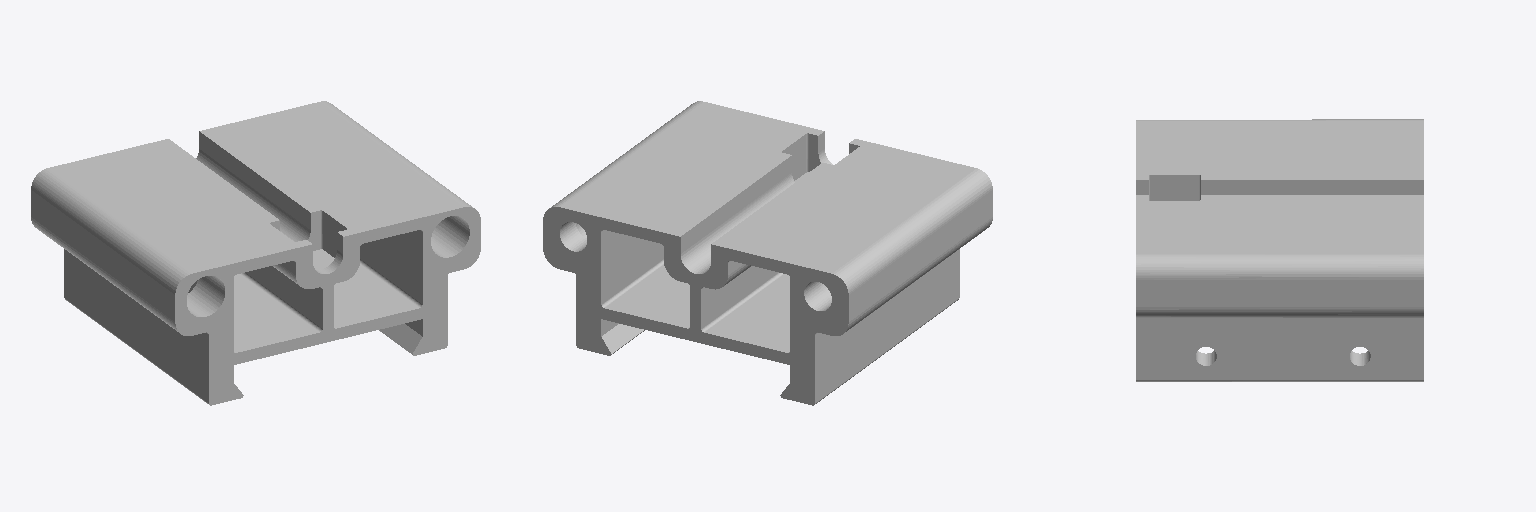
Rendered from axis_z.obj.
3 views of the same model, side by side, from view 1: azimuth 30°, elevation 25°; view 2: azimuth 150°, elevation 25°; view 3: azimuth 270°, elevation 25° (orthographic).
Visible parts, largest first — view 1: NONE_12_.001_网格.1452; view 2: NONE_12_.001_网格.1452; view 3: NONE_12_.001_网格.1452.
Part boxes in pixels (x1,y1,x2,y2): NONE_12_.001_网格.1452: (31, 101, 480, 405); NONE_12_.001_网格.1452: (543, 101, 992, 405); NONE_12_.001_网格.1452: (1136, 119, 1423, 381).
Size of the model in its own units: 0.055 by 0.0235 by 0.045.